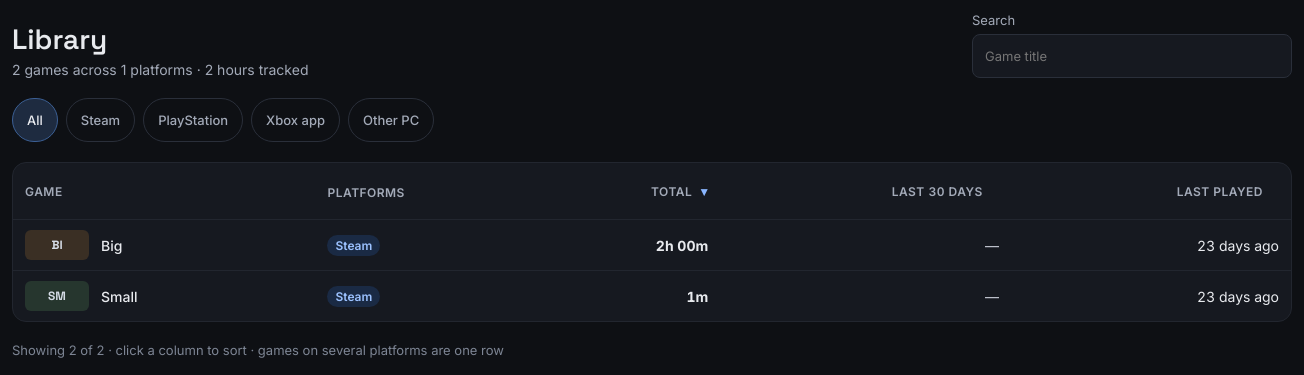
Test case: LibraryPage › sorts when a header is clicked and flips on second click
Later steps or results of the test are not shown.
Expected: the link "Big" is shown, 101,236 -> 122,254
Step 1. Click the button "Game" → {"x": 52, "y": 191}, box 25,169 -> 79,213
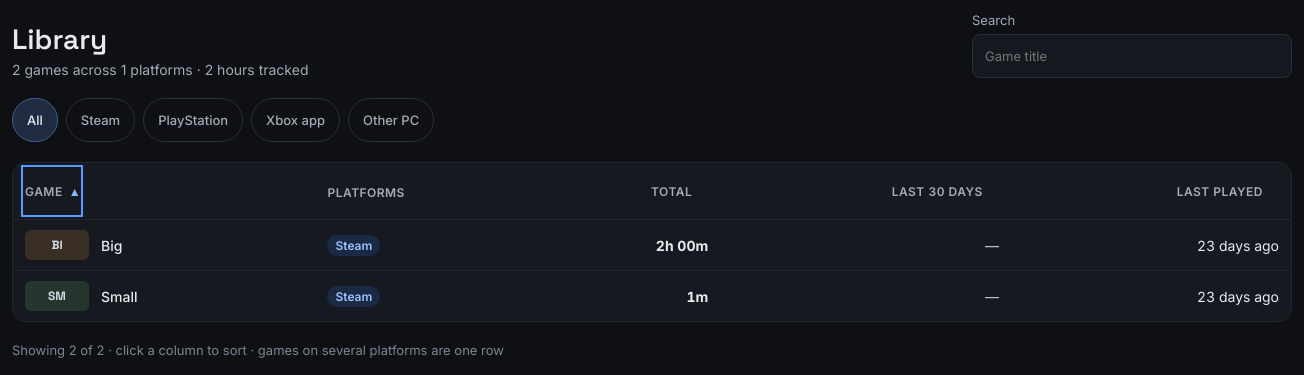
Expected: the column heading "Game ▲" has attribute aria-sort="ascending", 13,163 -> 316,220
